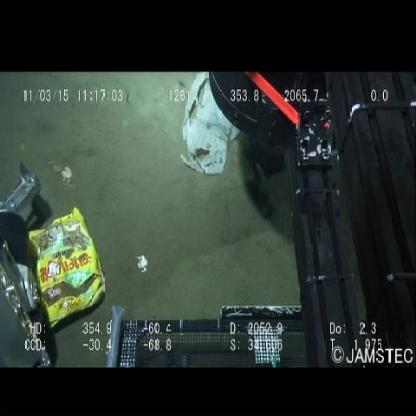Rov: (206, 72, 416, 302), (105, 303, 416, 366), (1, 159, 50, 364)
Rác: (24, 204, 107, 333), (176, 72, 239, 193)
